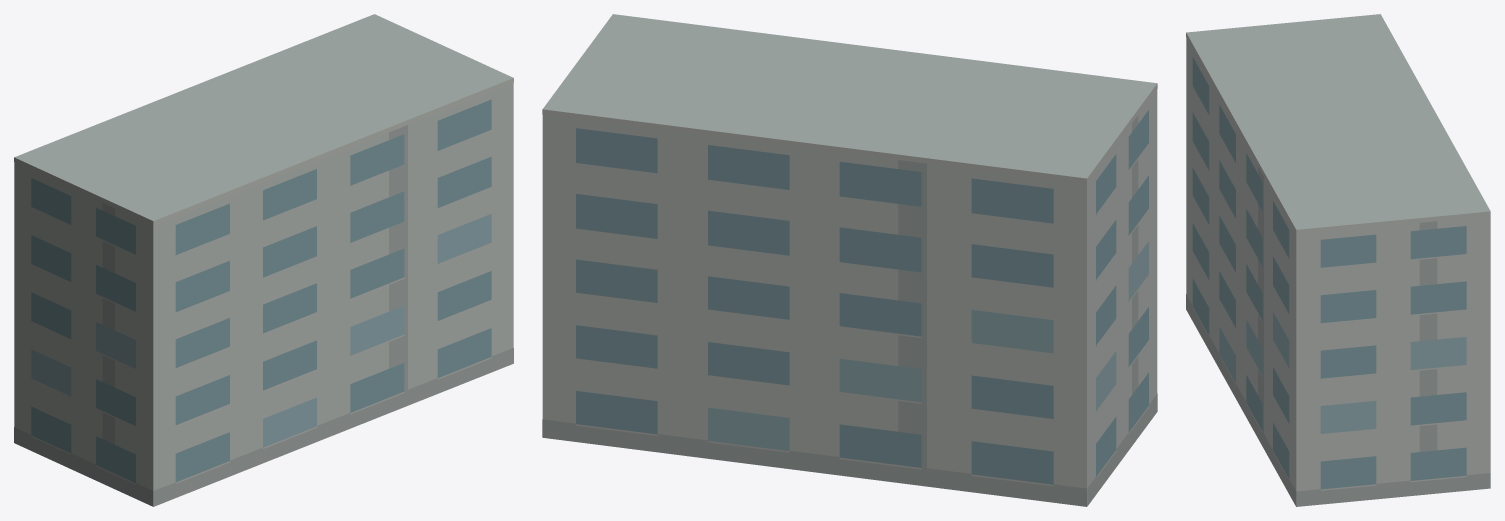
The model's file is survey-upis-32810434.glb.
The picture shows the model from 3 angles, left to right: view 1: azimuth 30°, elevation 25°; view 2: azimuth 150°, elevation 25°; view 3: azimuth 270°, elevation 25°; orthographic projection. The views are drawn at different scales.
Visible parts, largest first — view 1: survey-upis-32810434.tmp; view 2: survey-upis-32810434.tmp; view 3: survey-upis-32810434.tmp.
Part boxes in pixels (x1,y1,x2,y2): survey-upis-32810434.tmp: (14, 14, 513, 506); survey-upis-32810434.tmp: (542, 14, 1157, 506); survey-upis-32810434.tmp: (1186, 14, 1490, 506).
Bounding box in the file's own units: 24.32 × 14.55 × 14.51.
